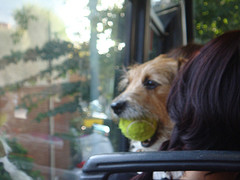tennis ball: (118, 111, 159, 142)
